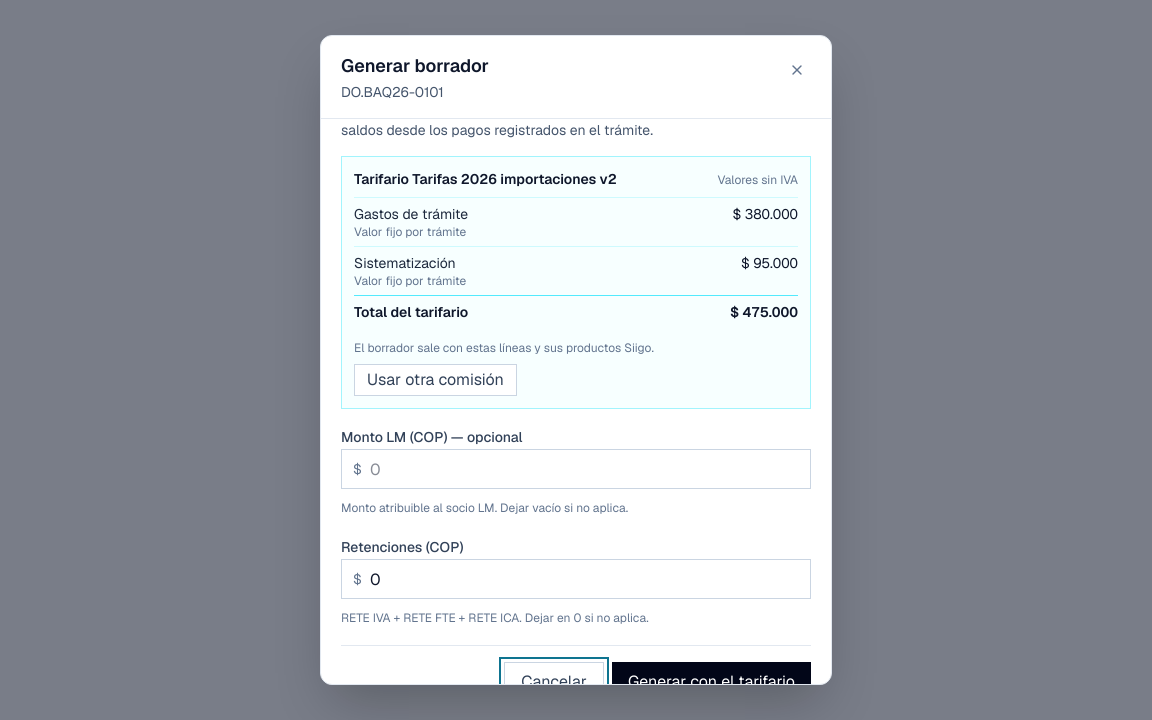
Test: GenerarBorradorModal — empresa con tarifario vigente › si el servidor ya no aplica ese tarifario (409), lo dice y ofrece volver a consultarlo
(page scrolled)
Submit the form, box [341,100,811,702]
(page scrolled)
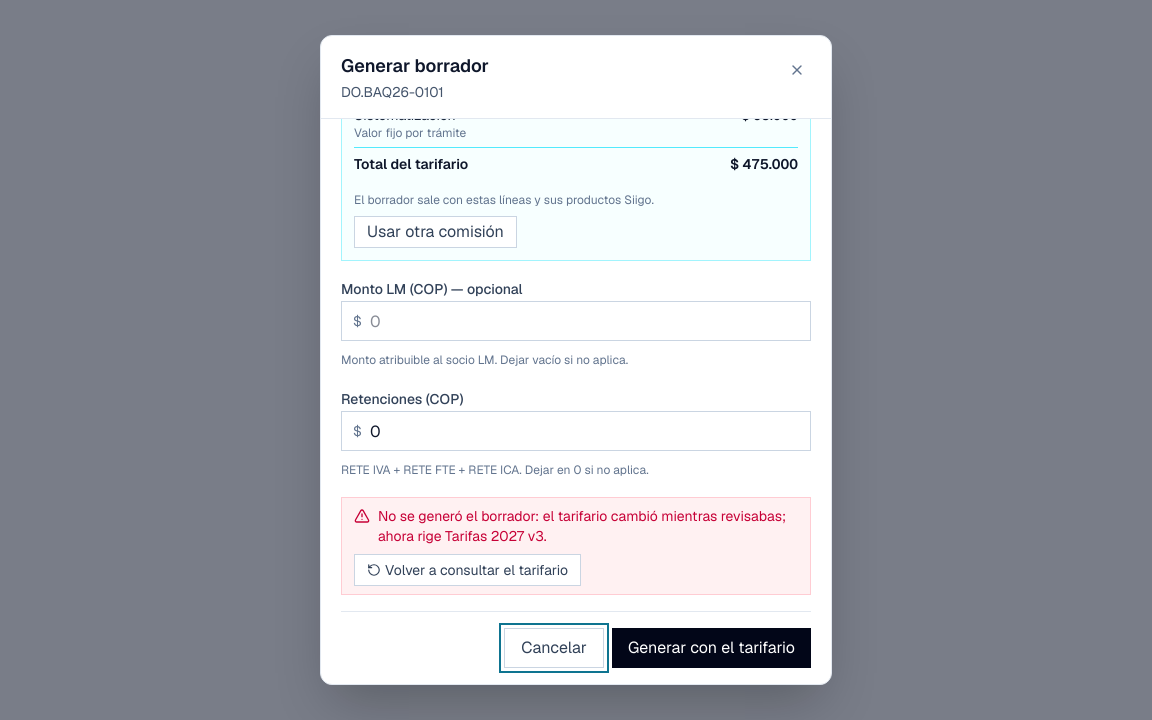
Expected: the text "el tarifario cambió mientras revisabas" is shown, [378,507,786,545]
Click the button "Volver a consultar el tarifario": (468, 570) [354,554,581,586]
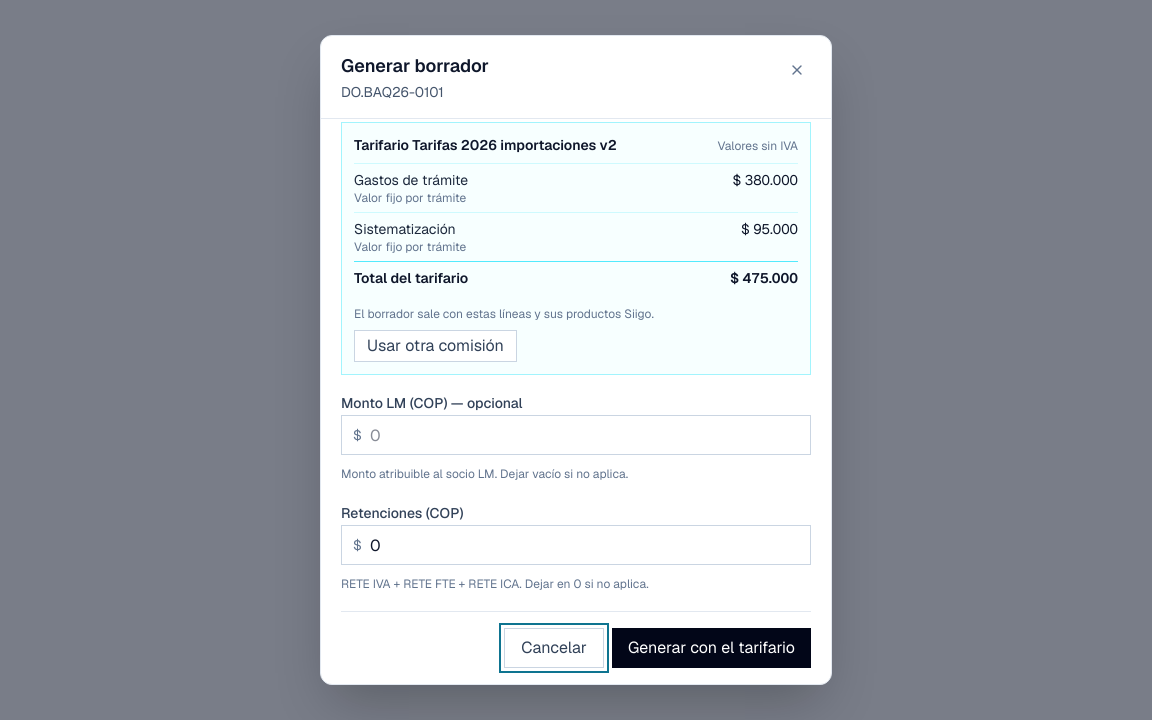
Expected: the text "el tarifario cambió mientras revisabas" is gone
